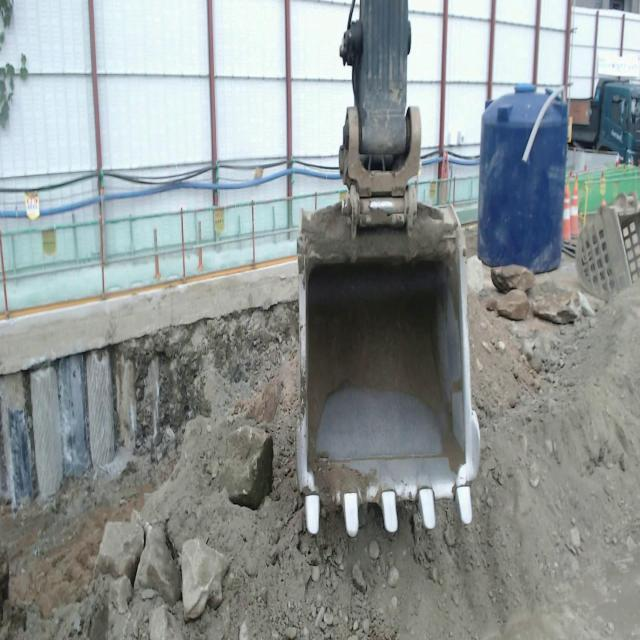stone: (529, 283, 594, 324), (487, 290, 530, 320), (491, 264, 535, 293)
white-sand: (0, 285, 640, 639)
